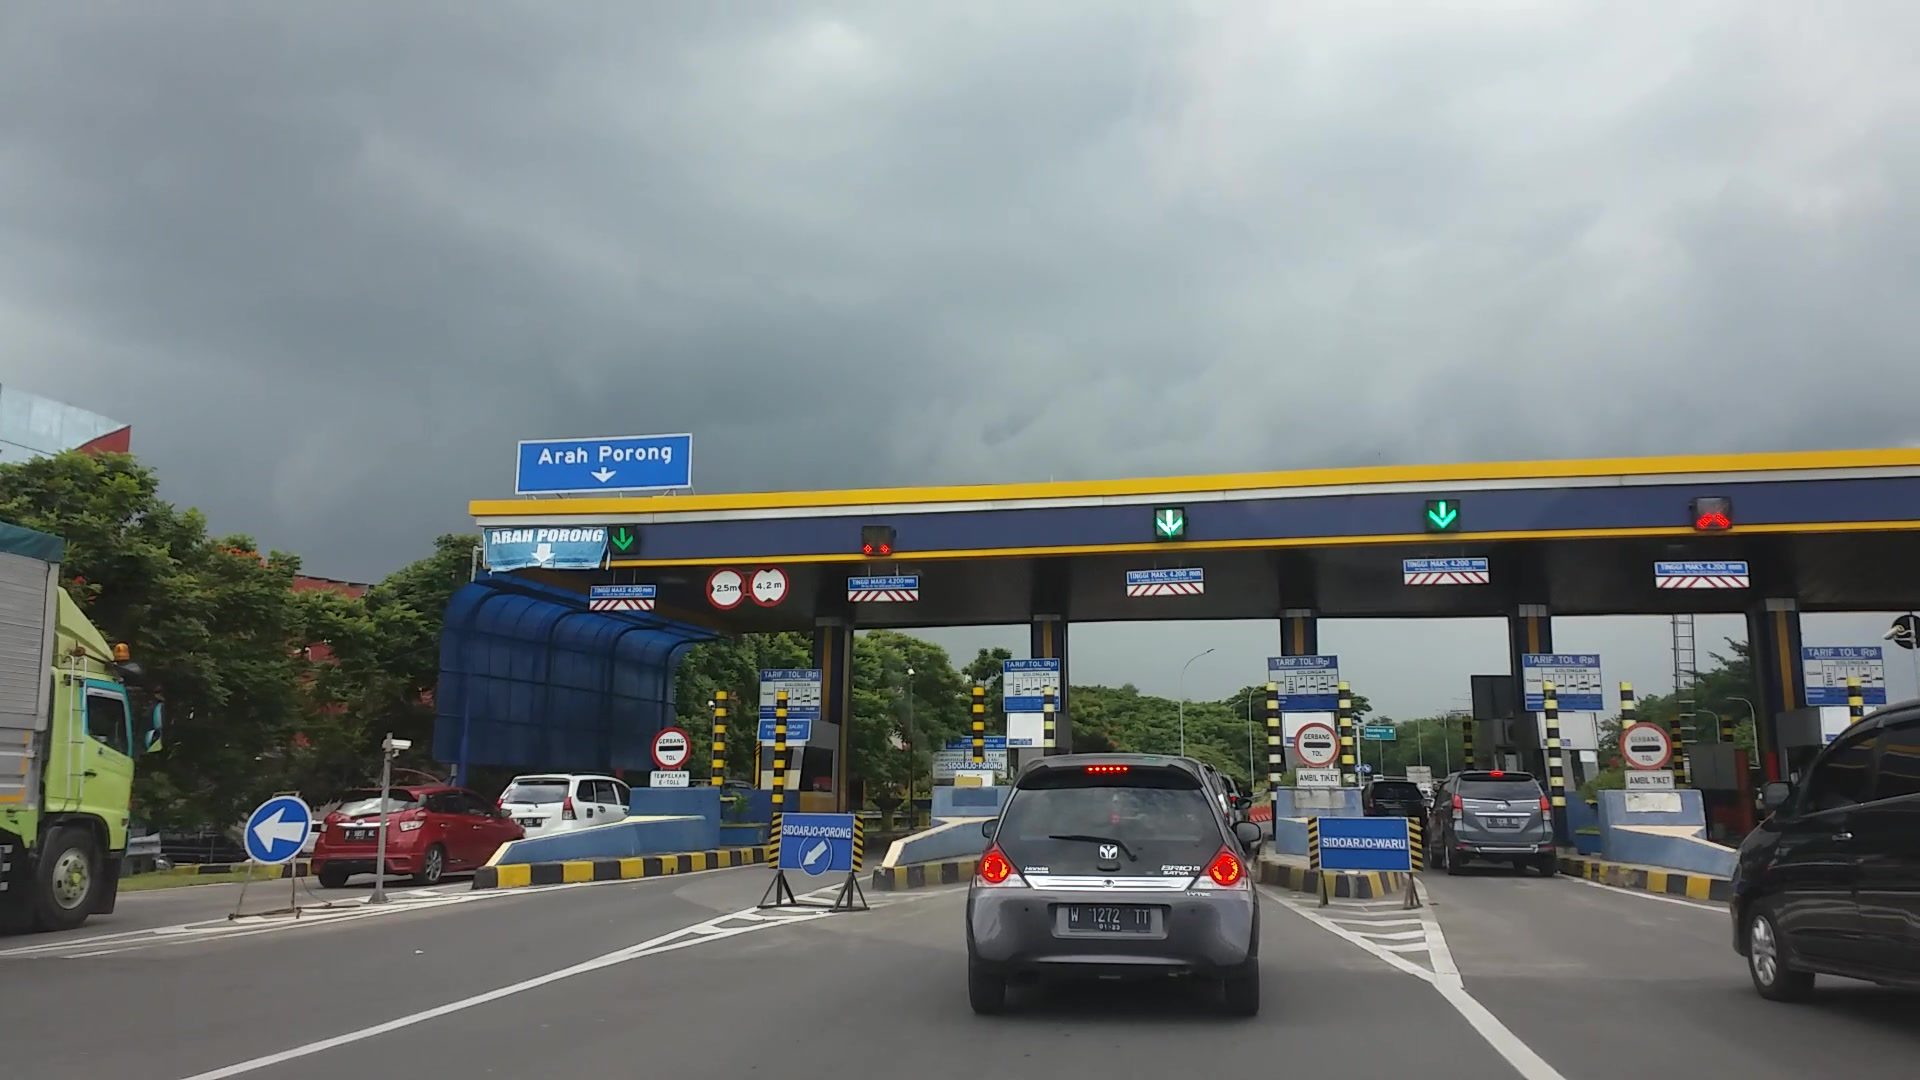plate_positive: (1068, 905, 1150, 934)
